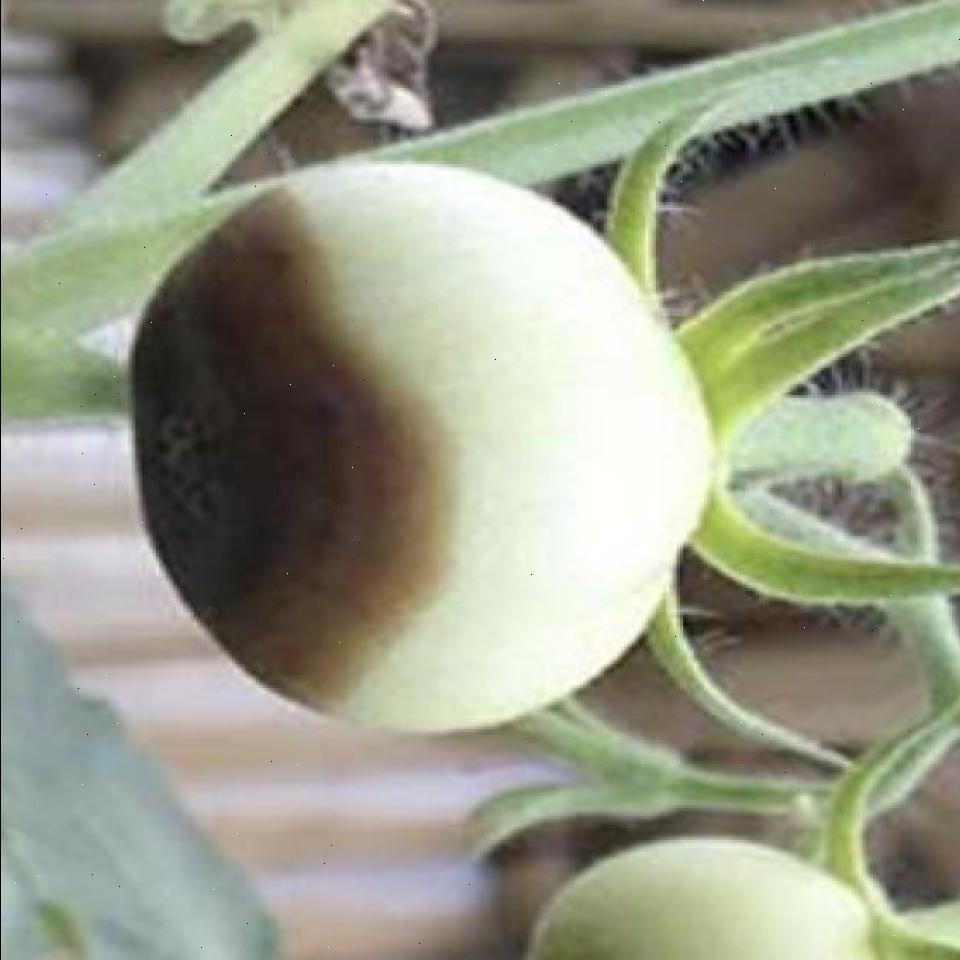Blossom_end_rot: (134, 174, 472, 728)
